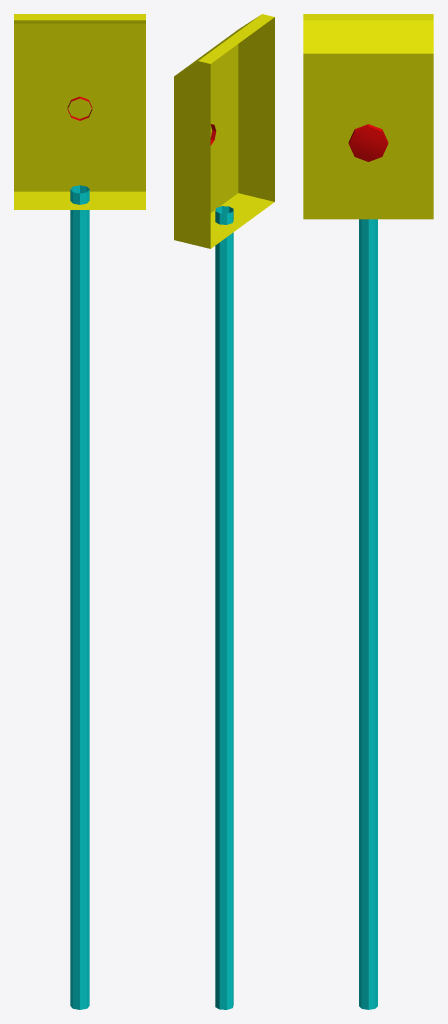
Rendered from PanicButton.fbx.
3 renders of one model, left to right at view 1: azimuth 90°, elevation 25°; view 2: azimuth 150°, elevation 25°; view 3: azimuth 270°, elevation 25°, orthographic. The views are drawn at different scales.
Visible parts, largest first — view 1: PanicButton_Pole; view 2: PanicButton_Pole; view 3: PanicButton_Pole, PanicButton_Button.
Part boxes in pixels (<box>): PanicButton_Pole: <box>14,14,145,1009</box>; PanicButton_Pole: <box>174,14,274,1009</box>; PanicButton_Pole: <box>303,14,433,1009</box>; PanicButton_Button: <box>348,124,388,161</box>.
Size of the model in its own units: 0.7121 by 12.33 by 1.48.
